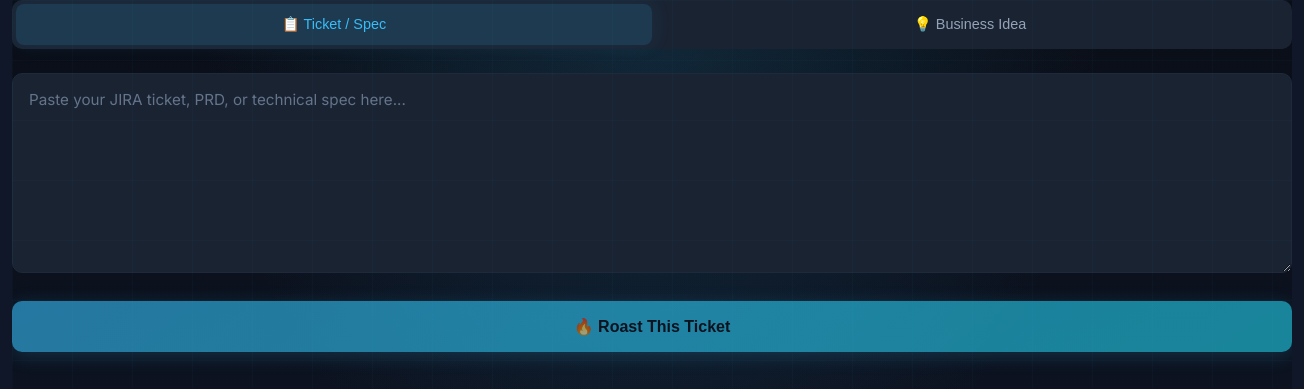
Test: AnalysisForm component › should enable submit button when content is entered
expect the button "🔥 Roast This Ticket" is disabled: met, box [12, 301, 1292, 352]
In the text box: (652, 173) [12, 73, 1292, 273], type "Some content"
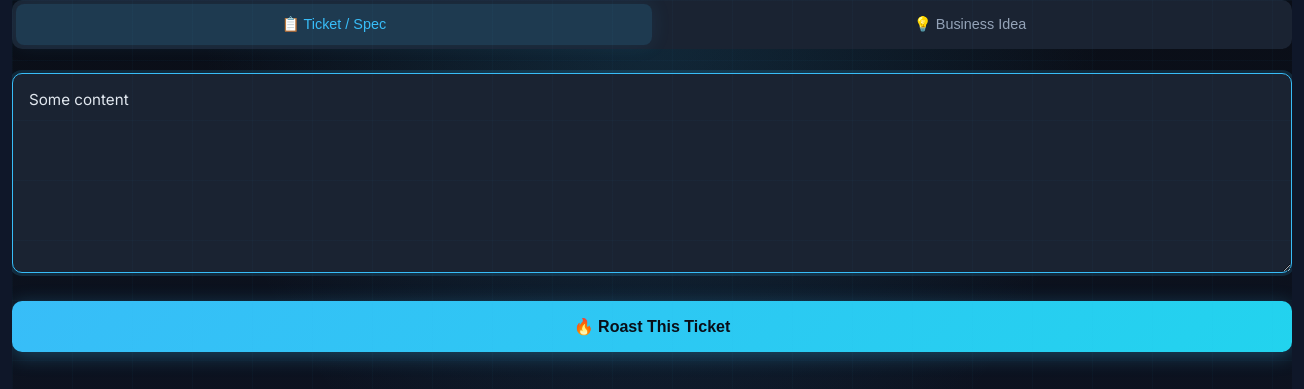
expect the button "🔥 Roast This Ticket" is enabled: met, box [12, 301, 1292, 352]
